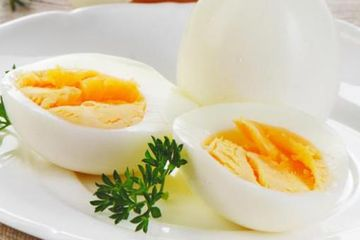Telur: (1, 53, 172, 169), (194, 100, 342, 229)
